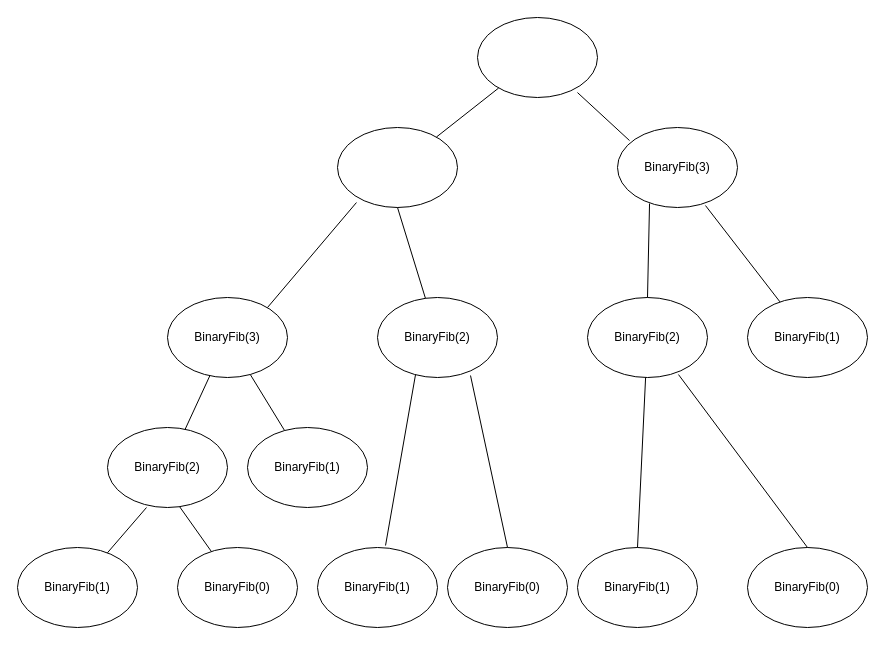
The diagram is 885 pixels wide and 645 high, and some of its shapes have lost their labels. Each missing label, with the centre of its shape:
BinaryFib(4): the point at 397,167
BinaryFib(5): the point at 537,57
